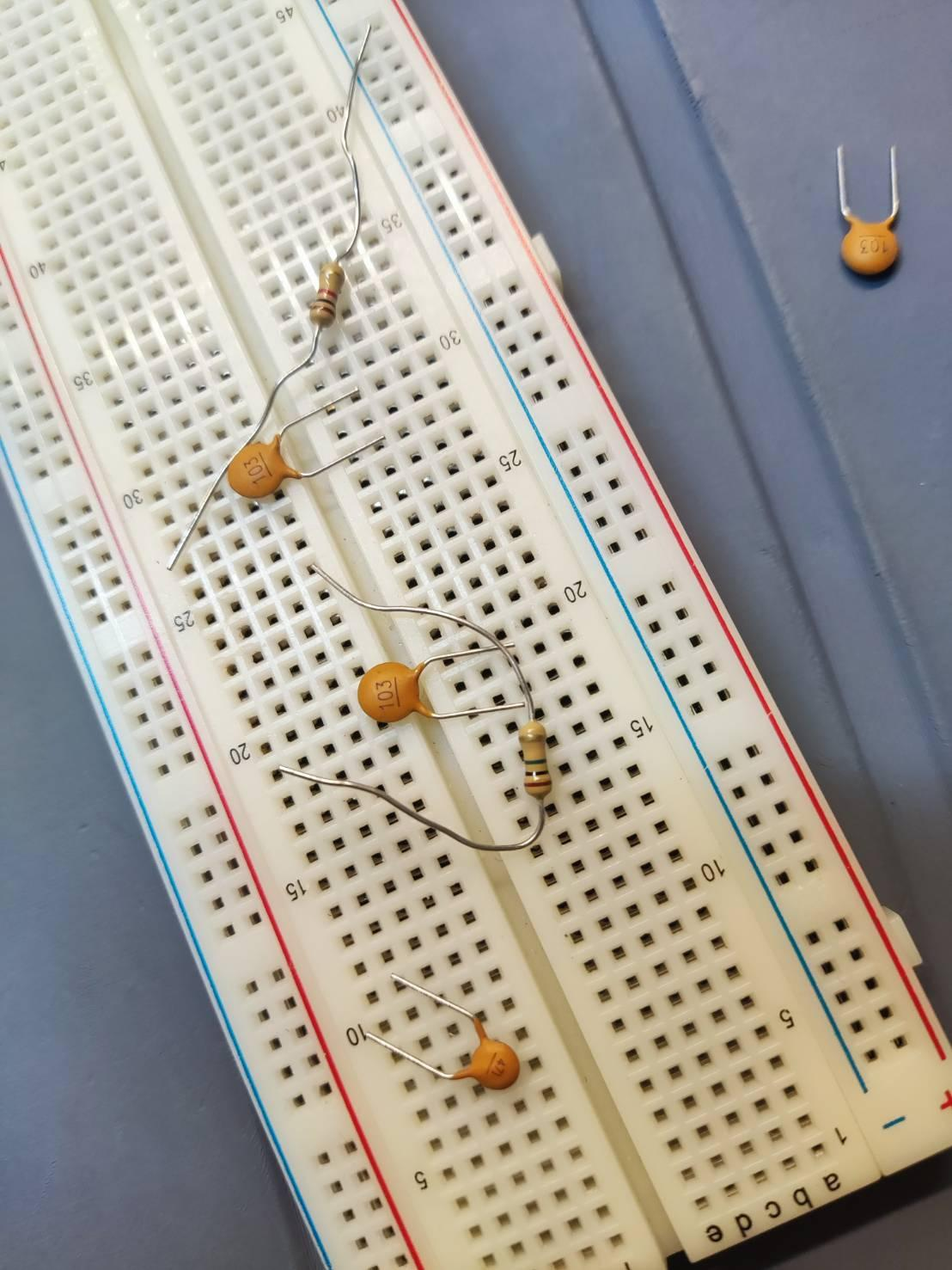resistor: (512, 719, 558, 805), (306, 255, 347, 334)
